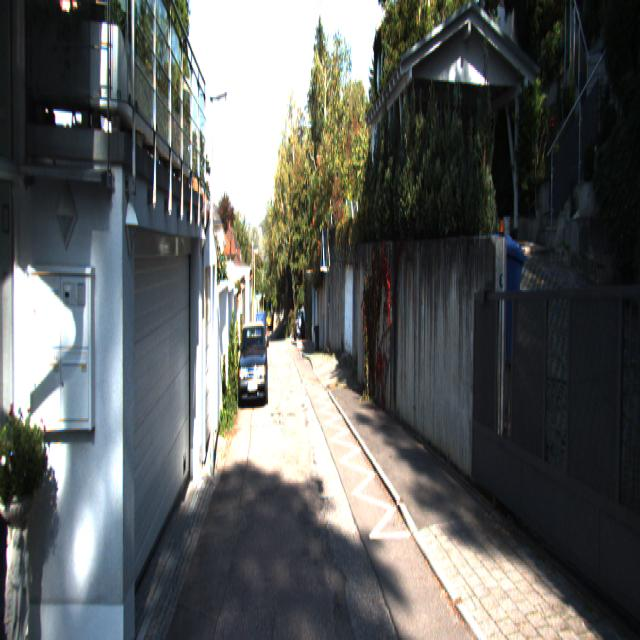Car: (237, 320, 268, 412)
DontCare: (294, 308, 304, 342)
